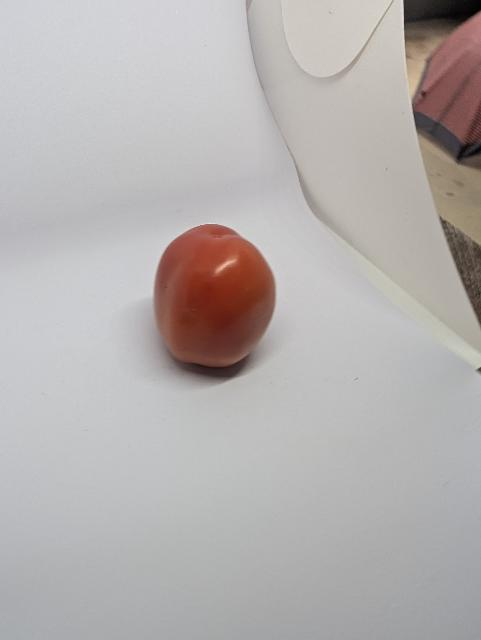red: (112, 223, 294, 387)
